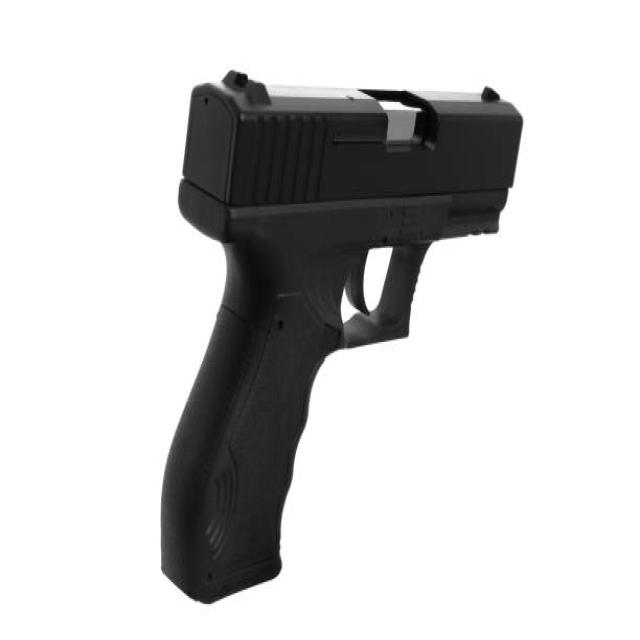pistol: (148, 61, 531, 611)
